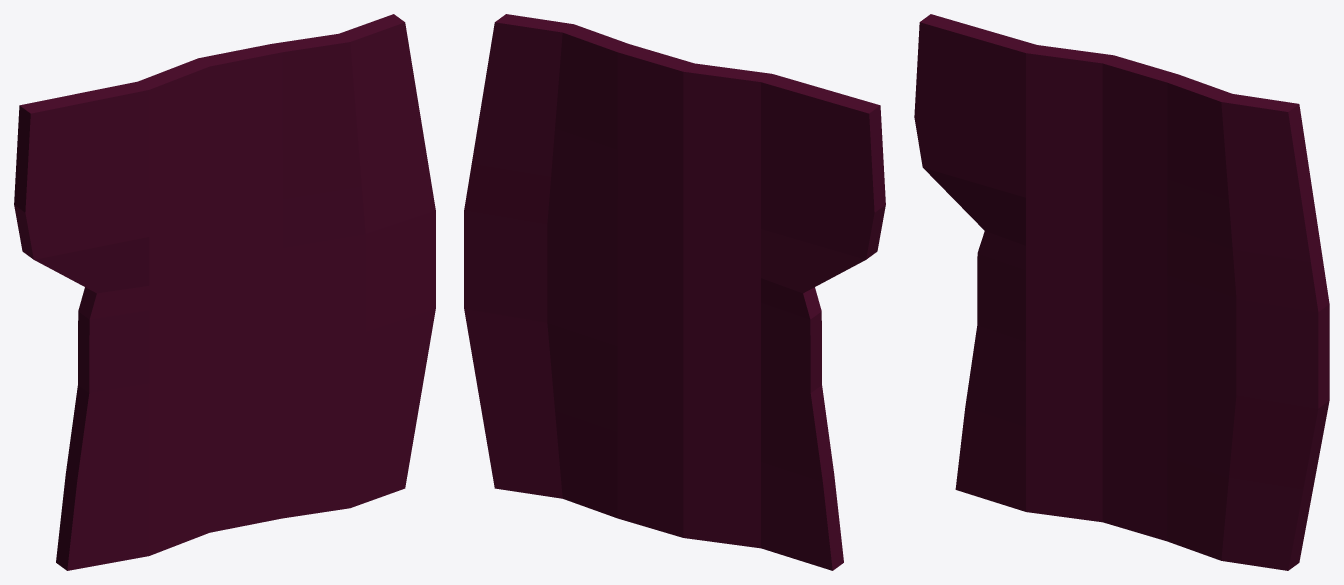
Rendered from curtain.fbx.
3 renders of one model, left to right at view 1: azimuth 30°, elevation 25°; view 2: azimuth 150°, elevation 25°; view 3: azimuth 330°, elevation 25°, orthographic.
Parts seen in each view (by area): view 1: curTAIN; view 2: curTAIN; view 3: curTAIN.
Boxes of the visible parts, left/top/right/bottom form: curTAIN: left=14, top=14, right=435, bottom=570; curTAIN: left=464, top=14, right=885, bottom=570; curTAIN: left=914, top=14, right=1329, bottom=570.
Bounding box in the file's own units: 103 × 112 × 9.3.
